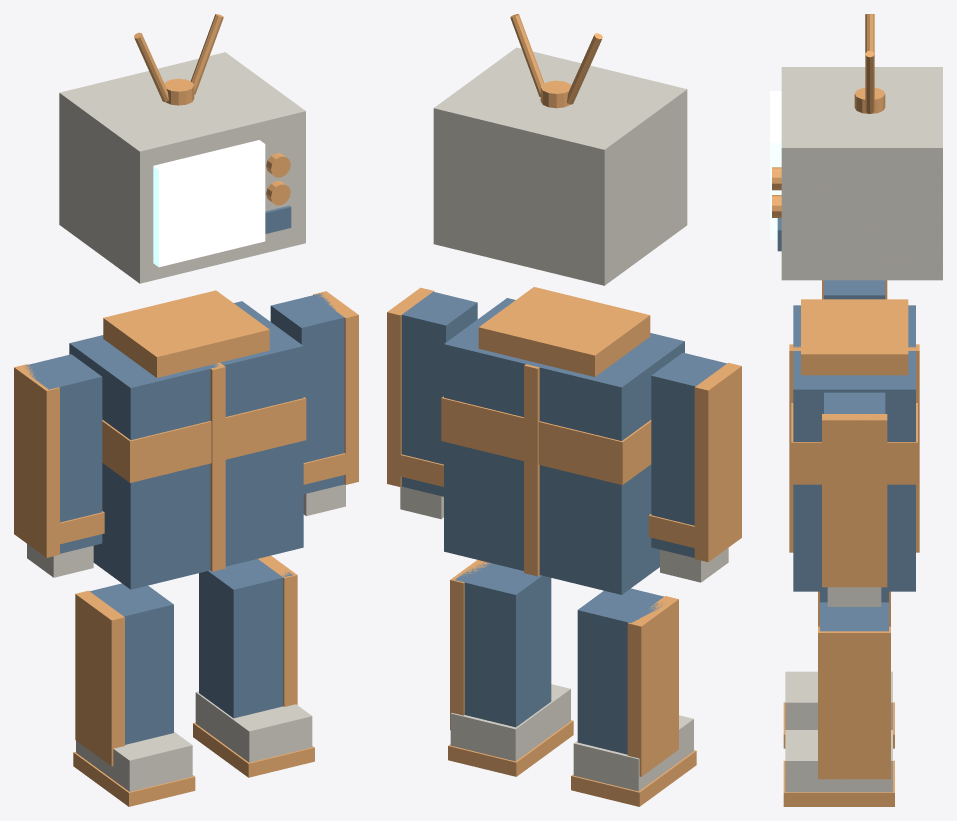
File: crt-head.glb
The picture shows the model from 3 angles, left to right: view 1: azimuth 30°, elevation 25°; view 2: azimuth 150°, elevation 25°; view 3: azimuth 270°, elevation 25°; orthographic projection. The views are drawn at different scales.
Parts seen in each view (by area): view 1: TracksuitJacket, CRTCasing, Pants_R, ScreenFace, TracksuitCollar, ChestChevron, Sleeve_R, ArmStripe_L, Pants_L, Sleeve_L, LegStripe_L, Sneaker_R (+14 smaller); view 2: CRTCasing, TracksuitJacket, Pants_R, TracksuitCollar, ChestChevron, ArmStripe_L, Pants_L, Sleeve_R, LegStripe_L, Sleeve_L, Sneaker_R, Sneaker_L (+12 smaller); view 3: CRTCasing, TracksuitJacket, ArmStripe_R, LegStripe_R, TracksuitCollar, Sneaker_R, ChestChevron, Sneaker_L, Sole_R, Pants_R, JacketZipper, Sleeve_R (+6 smaller).
Boxes of the visible parts, x1,y1,x2,y2 form: TracksuitJacket: (69,301,303,589); CRTCasing: (59,52,305,283); Pants_R: (199,559,292,718); ScreenFace: (153,140,265,267); TracksuitCollar: (103,290,269,377); ChestChevron: (102,397,306,482); Sleeve_R: (270,293,344,494); ArmStripe_L: (14,364,59,557); Pants_L: (90,583,173,744); Sleeve_L: (24,354,102,553); LegStripe_L: (75,590,124,766); Sneaker_R: (195,691,312,762); CRTCasing: (433,47,687,285); TracksuitJacket: (444,298,684,594); Pants_R: (455,562,551,727); TracksuitCollar: (478,287,650,376); ChestChevron: (441,396,651,484); ArmStripe_L: (694,362,741,562); Pants_L: (577,588,663,754); Sleeve_R: (401,291,477,496); LegStripe_L: (627,596,678,776); Sleeve_L: (651,352,726,557); Sneaker_R: (450,684,570,761); Sneaker_L: (573,715,693,791); CRTCasing: (781,67,942,280); TracksuitJacket: (793,305,915,591); ArmStripe_R: (822,414,887,587); LegStripe_R: (818,626,890,779); TracksuitCollar: (801,299,908,375); Sneaker_R: (785,730,892,792); ChestChevron: (791,403,917,484); Sneaker_L: (785,671,892,729); Sole_R: (783,760,894,806); Pants_R: (820,602,888,631); JacketZipper: (789,344,919,552); Sleeve_R: (824,392,885,413).
Size of the model in its own units: 0.94 by 2.1 by 0.45.
